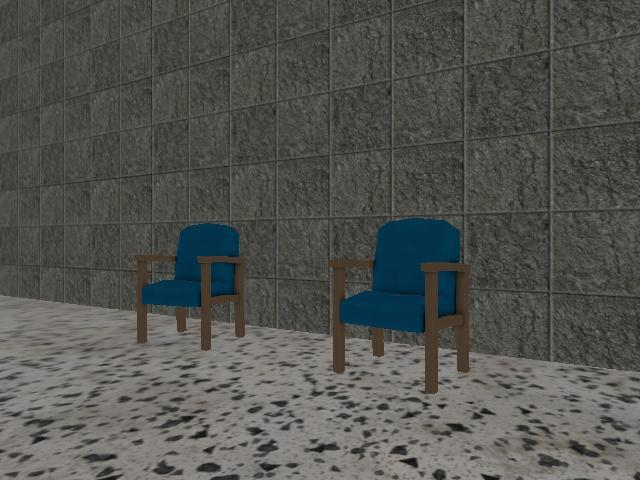chair: (328, 218, 471, 394), (134, 223, 246, 351)
